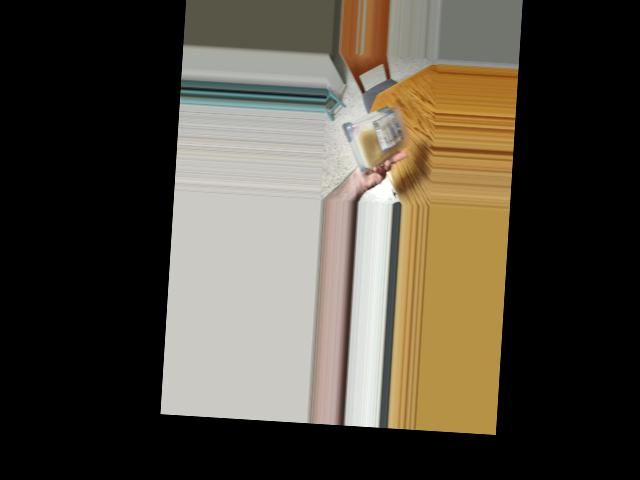cheese: (344, 98, 403, 173)
